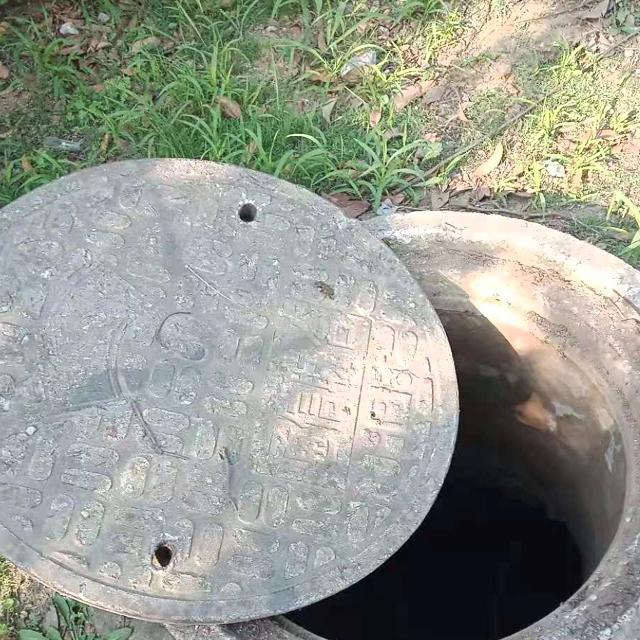uncovered: (0, 153, 640, 640)
